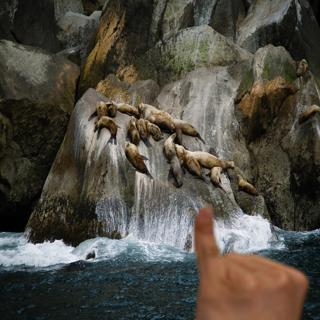FINE: (185, 205, 320, 320)
